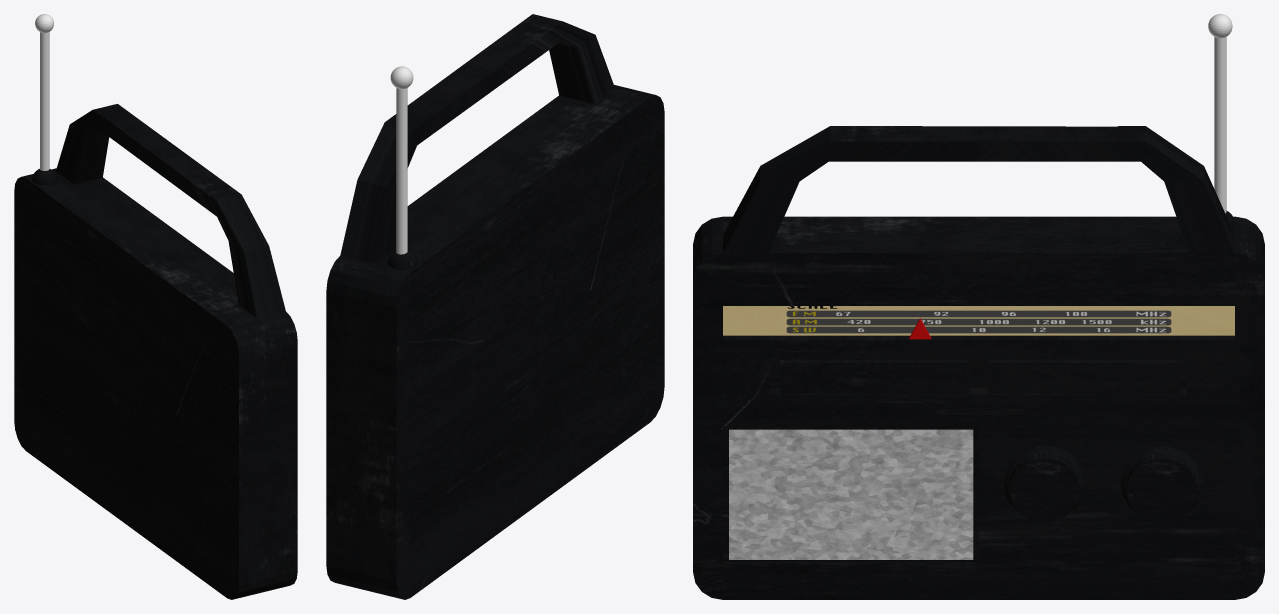
Rendered from rad.glb.
The picture shows the model from 3 angles, left to right: view 1: azimuth 30°, elevation 25°; view 2: azimuth 150°, elevation 25°; view 3: azimuth 270°, elevation 25°; orthographic projection. The views are drawn at different scales.
Parts seen in each view (by area): view 1: Knob2, Cylinder; view 2: Knob2, Cylinder; view 3: Knob2, Cylinder.
Part boxes in pixels (x1,y1,x2,y2): Knob2: [14, 104, 297, 599]; Cylinder: [35, 14, 53, 170]; Knob2: [326, 14, 664, 599]; Cylinder: [390, 66, 413, 254]; Knob2: [693, 126, 1264, 599]; Cylinder: [1208, 14, 1232, 213].
Bounding box in the file's own units: 0.84 × 5.01 × 4.67.
6 materials, 4 textured.
